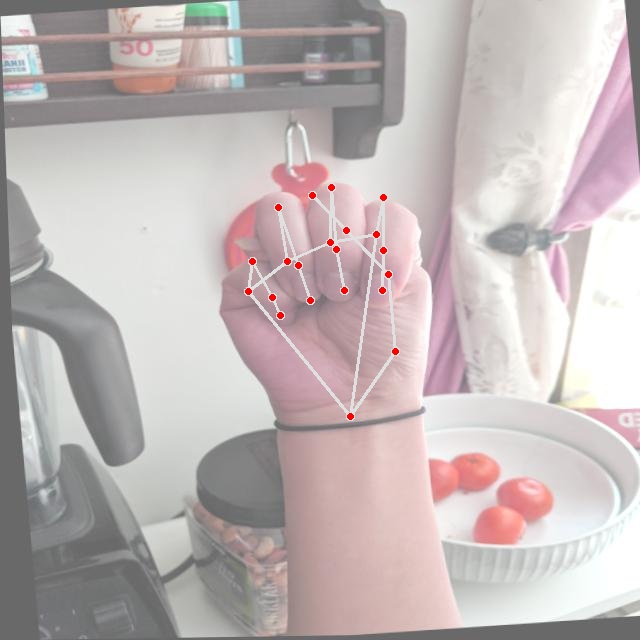M: (199, 171, 448, 424)
